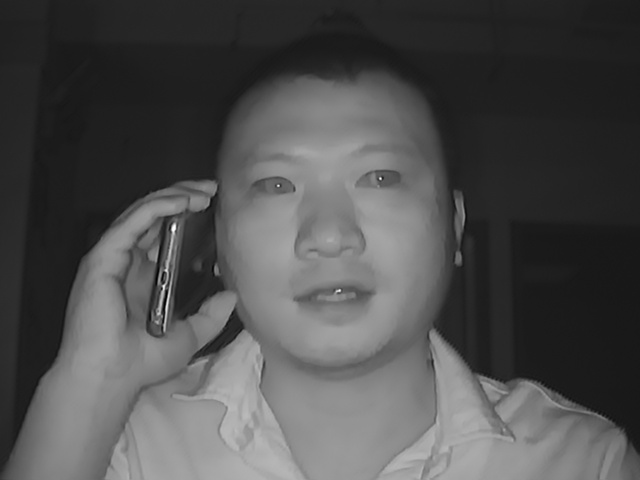hand: (68, 175, 224, 380)
